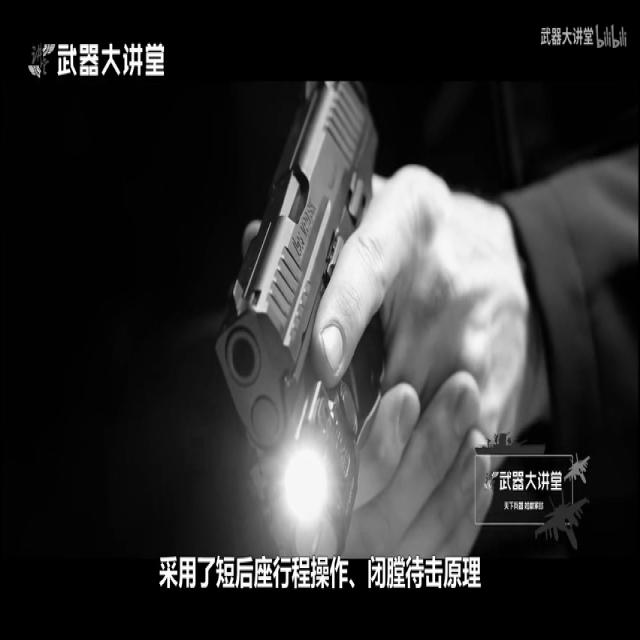Hand-Gun: (205, 56, 366, 557)
